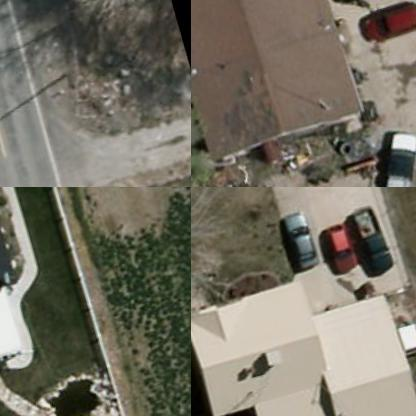car: (352, 0, 415, 45), (280, 207, 320, 274), (319, 214, 361, 274)
pickup: (340, 190, 400, 282), (361, 128, 415, 186)
